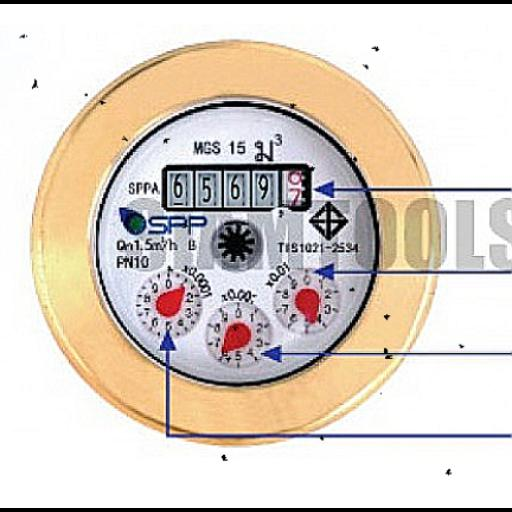5: (199, 174, 216, 206)
6: (285, 170, 304, 207), (170, 174, 187, 207), (229, 173, 244, 206)
9: (256, 174, 273, 206)
border_water_meter_number: (161, 163, 313, 213)
